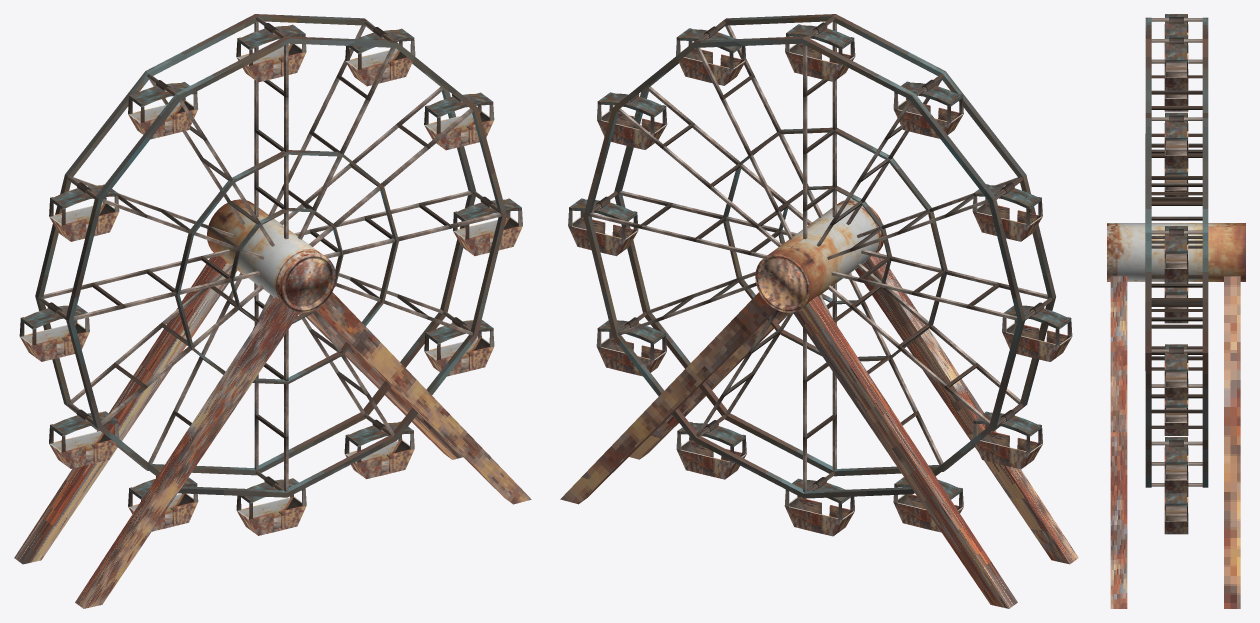
File: FerrisWheel.glb
3 renders of one model, left to right at view 1: azimuth 30°, elevation 25°; view 2: azimuth 150°, elevation 25°; view 3: azimuth 270°, elevation 25°, orthographic. The views are drawn at different scales.
Visible parts, largest first — view 1: Frame, Cube.015, Cube.014, Cylinder.013, Cube.012, Frame.001, Seats.008, Seats.009, Seats.003, Seats.010, Seats.006, Seats.005 (+20 smaller); view 2: Frame, Cube.014, Cube.015, Cylinder.013, Cube.013, Frame.001, Seats.008, Cube.004, Cube.010, Cube.011, Seats.009, Seats.003 (+20 smaller); view 3: Frame, Cube.012, Cylinder.013, Cube.013, Seats, Seats.001, Seats.002, Seats.004, Seats.003, Seats.005, Seats.007, Cube (+15 smaller).
Boxes of the visible parts, bbox=[...] form: Frame: bbox=[35, 14, 506, 497]; Cube.015: bbox=[75, 297, 299, 608]; Cube.014: bbox=[14, 252, 237, 564]; Cylinder.013: bbox=[207, 199, 335, 312]; Cube.012: bbox=[315, 292, 531, 504]; Frame.001: bbox=[174, 150, 398, 384]; Seats.008: bbox=[49, 409, 118, 468]; Seats.009: bbox=[19, 302, 89, 361]; Seats.003: bbox=[453, 196, 522, 255]; Seats.010: bbox=[49, 182, 119, 241]; Seats.006: bbox=[236, 476, 306, 535]; Seats.005: bbox=[344, 419, 414, 479]; Frame: bbox=[583, 14, 1055, 498]; Cube.014: bbox=[793, 296, 1017, 608]; Cube.015: bbox=[855, 251, 1078, 564]; Cylinder.013: bbox=[755, 199, 883, 312]; Cube.013: bbox=[560, 292, 776, 504]; Frame.001: bbox=[723, 127, 947, 361]; Seats.008: bbox=[972, 409, 1042, 469]; Cube.004: bbox=[827, 263, 1020, 425]; Cube.010: bbox=[617, 86, 811, 246]; Cube.011: bbox=[695, 25, 823, 239]; Seats.009: bbox=[1002, 302, 1072, 361]; Seats.003: bbox=[568, 196, 638, 256]; Frame: bbox=[1145, 17, 1208, 487]; Cube.012: bbox=[1110, 276, 1127, 608]; Cylinder.013: bbox=[1107, 223, 1245, 281]; Cube.013: bbox=[1224, 276, 1240, 608]; Seats: bbox=[1164, 34, 1188, 90]; Seats.001: bbox=[1164, 112, 1188, 168]; Seats.002: bbox=[1164, 226, 1188, 282]; Seats.004: bbox=[1164, 437, 1188, 493]; Seats.003: bbox=[1164, 344, 1188, 400]; Seats.005: bbox=[1164, 493, 1188, 534]; Seats.007: bbox=[1164, 400, 1188, 435]; Cube: bbox=[1151, 90, 1202, 200].
Bounding box in the file's own units: 45 × 44.09 × 11.84.
Materials: 6 (6 with a texture image).
